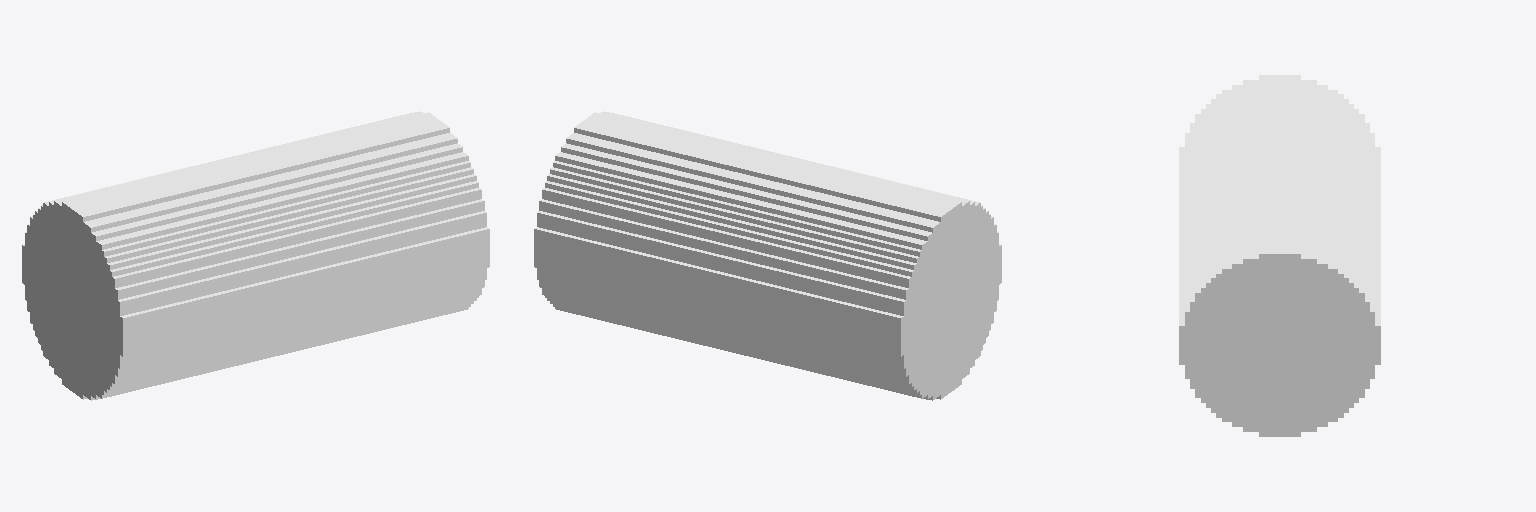
The model's file is Battery.obj.
3 views of the same model, side by side, from view 1: azimuth 30°, elevation 25°; view 2: azimuth 150°, elevation 25°; view 3: azimuth 270°, elevation 25° (orthographic).
Parts seen in each view (by area): view 1: object 1; view 2: object 1; view 3: object 1.
Part boxes in pixels (bbox=[...]): object 1: bbox=[22, 111, 489, 400]; object 1: bbox=[534, 111, 1001, 400]; object 1: bbox=[1179, 75, 1380, 436].
Size of the model in its own units: 8 by 3.8 by 3.8.